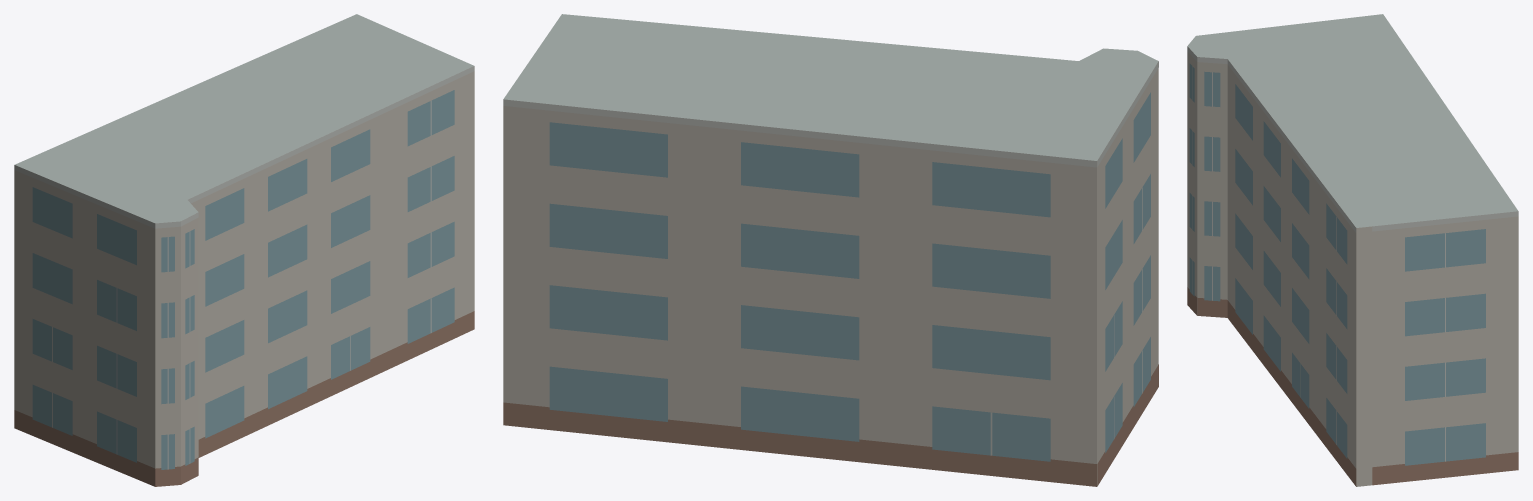
File: survey-upis-32802005.glb
3 views of the same model, side by side, from view 1: azimuth 30°, elevation 25°; view 2: azimuth 150°, elevation 25°; view 3: azimuth 270°, elevation 25° (orthographic). The views are drawn at different scales.
Visible parts, largest first — view 1: survey-upis-32802005.tmp; view 2: survey-upis-32802005.tmp; view 3: survey-upis-32802005.tmp.
Part boxes in pixels (x1,y1,x2,y2): survey-upis-32802005.tmp: (14,14,474,486); survey-upis-32802005.tmp: (503,14,1158,486); survey-upis-32802005.tmp: (1187,14,1518,486).
Size of the model in its own units: 21.82 by 12.3 by 14.27.
